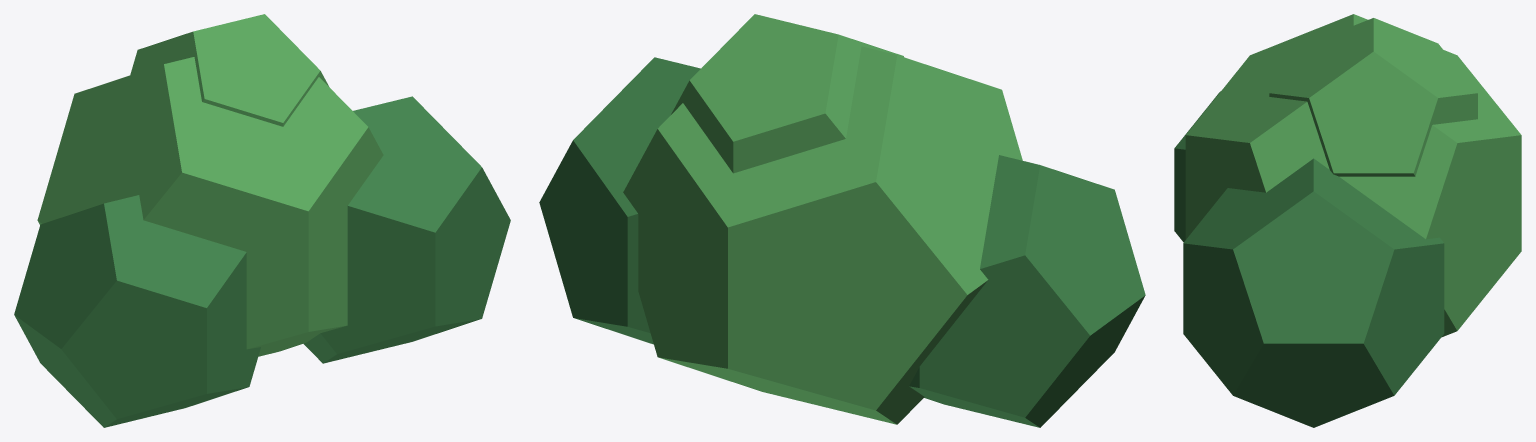
The model's file is bush.glb.
3 renders of one model, left to right at view 1: azimuth 30°, elevation 25°; view 2: azimuth 150°, elevation 25°; view 3: azimuth 270°, elevation 25°, orthographic. The views are drawn at different scales.
Visible parts, largest first — view 1: Bush_Blob_0.45, Bush_Blob_0.32, Bush_Blob_0.35, Bush_Blob_0.28; view 2: Bush_Blob_0.45, Bush_Blob_0.32, Bush_Blob_0.35, Bush_Blob_0.28; view 3: Bush_Blob_0.35, Bush_Blob_0.45, Bush_Blob_0.28, Bush_Blob_0.32.
Part boxes in pixels (x1,y1,x2,y2): Bush_Blob_0.45: (37,57,383,356); Bush_Blob_0.32: (14,195,260,427); Bush_Blob_0.35: (303,96,510,363); Bush_Blob_0.28: (130,14,328,126); Bush_Blob_0.45: (623,46,1022,424); Bush_Blob_0.32: (909,155,1145,427); Bush_Blob_0.35: (539,57,700,344); Bush_Blob_0.28: (671,14,903,173); Bush_Blob_0.35: (1183,158,1444,427); Bush_Blob_0.45: (1185,14,1521,337); Bush_Blob_0.28: (1269,18,1477,176); Bush_Blob_0.32: (1174,91,1220,242).
Size of the model in its own units: 1.28 by 0.8905 by 0.8693.
